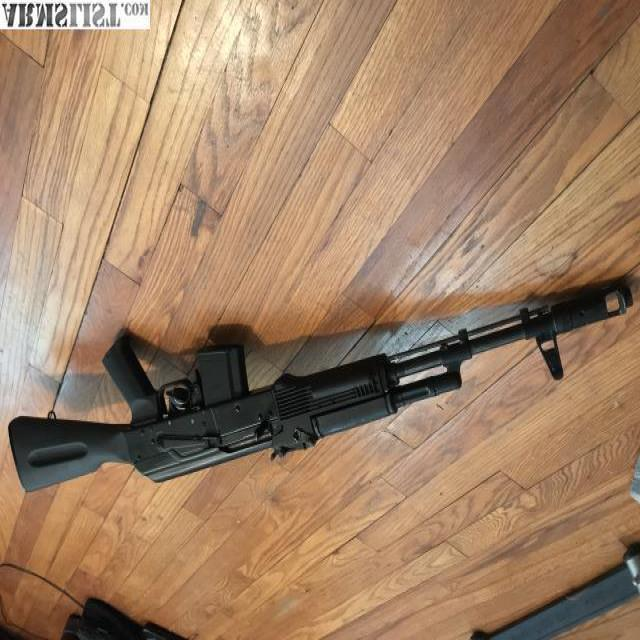weapon: (8, 284, 634, 492)
